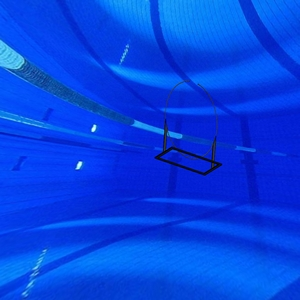circle: (153, 78, 228, 179)
